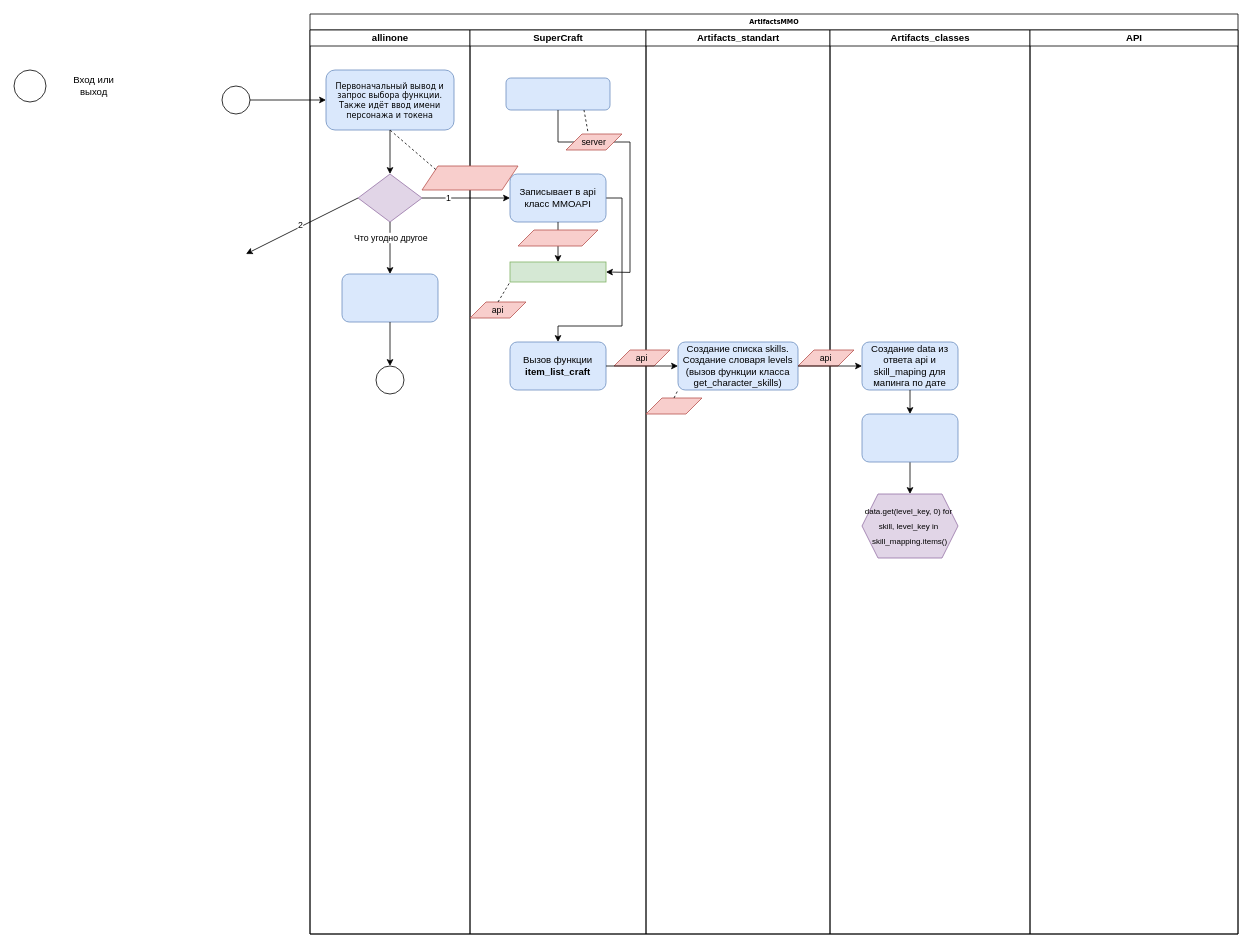
This 1252x948 diagram has some shape labels left out. The shapes that lost their labels are listed below. From the top down, each one's centre as x and y in pixels, then its label:
(x=557, y=93): Объявление адреса сервера
(x=389, y=197): Выбор функции
(x=469, y=177): token, name, optimize_weapone
(x=557, y=237): token, name
(x=557, y=271): api = class MMOAPI
(x=389, y=297): Вывод: хуита
(x=673, y=405): skills
(x=909, y=437): создание skills
